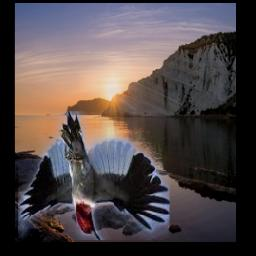Woodpecker: (19, 111, 170, 240)
